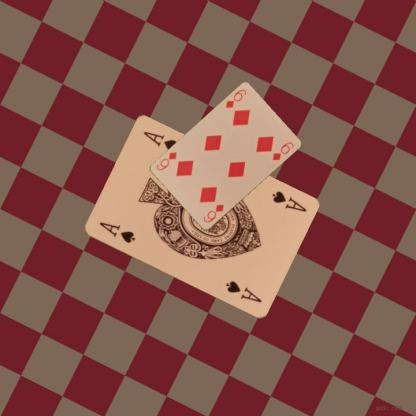6d: (223, 86, 248, 110), (200, 202, 225, 224)
As: (96, 219, 136, 244), (270, 188, 308, 214)
